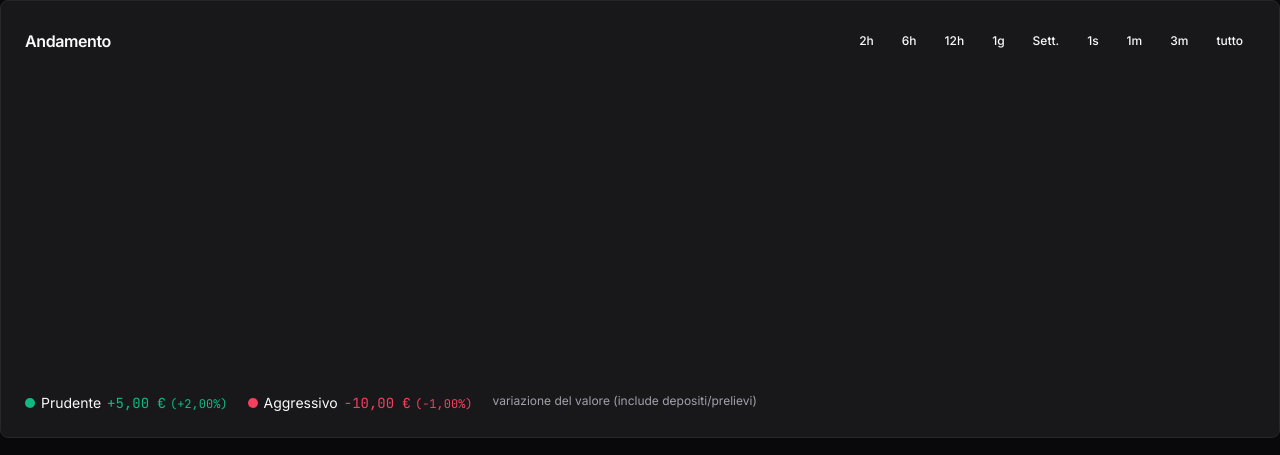
EquityHistoryCard › «Sett.»: after «1g», asks for the current week, dates on the axis, the weekly goal drawn
This screenshot has width=1280, height=455.
Expected: the list named "Legenda" is shown, top-left (25, 393), bottom-right (757, 412)
Click the button "Sett." at {"x": 1046, "y": 41}, box top-left (1021, 25), bottom-right (1071, 57)
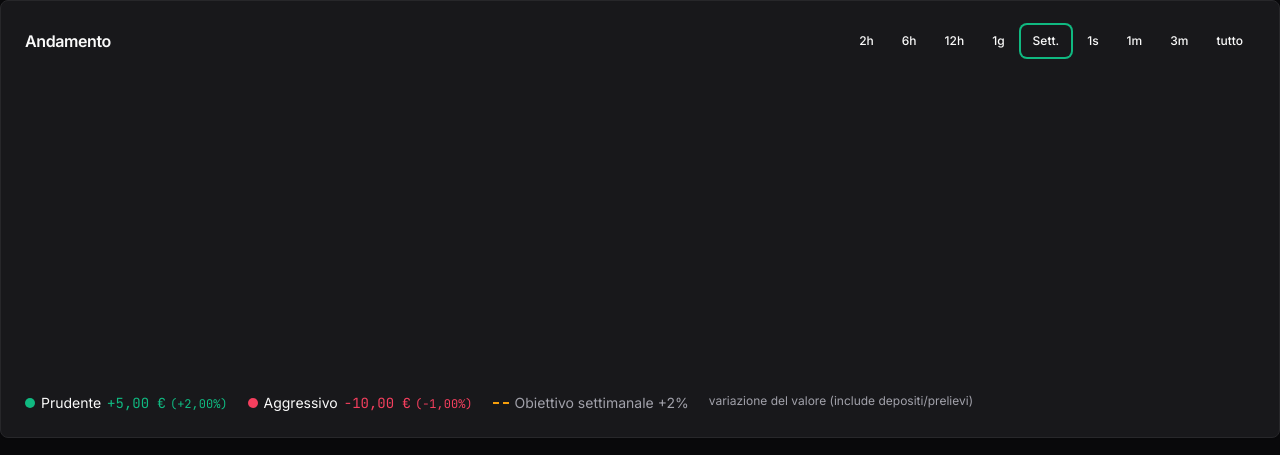
Result: the list item "Obiettivo settimanale +2%" is shown at top-left (492, 393), bottom-right (689, 413)
